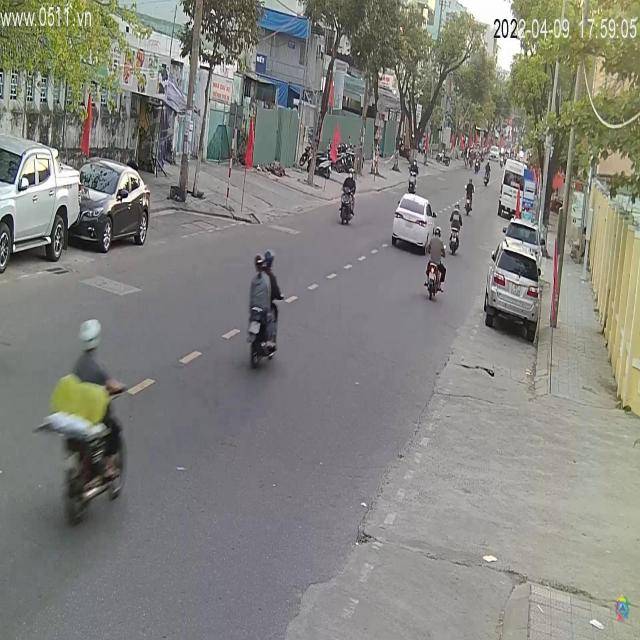car: (1, 130, 81, 279), (72, 158, 154, 254), (392, 194, 436, 254)
motorcycle: (37, 387, 129, 527), (246, 302, 281, 366), (337, 183, 357, 225), (426, 261, 446, 298), (449, 212, 462, 257)
